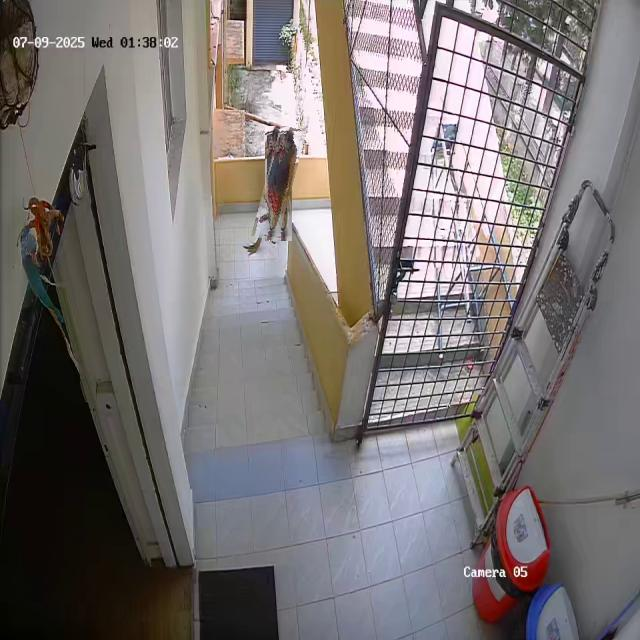person: (258, 125, 299, 242)
